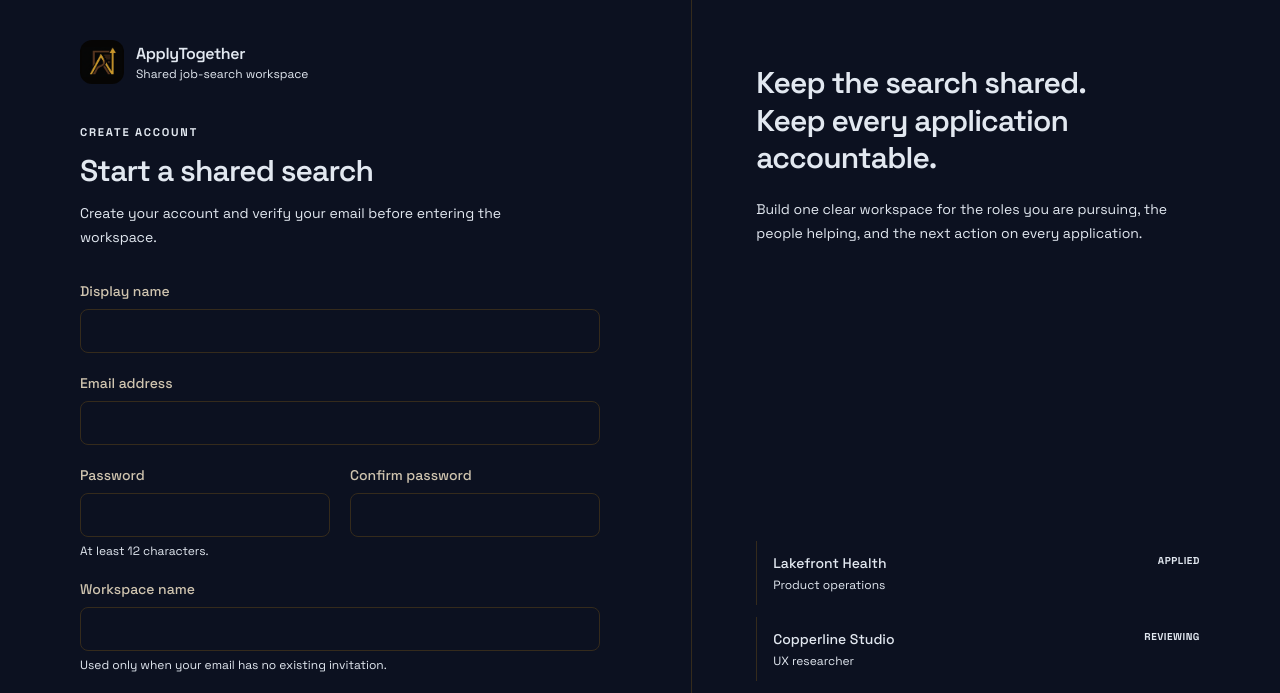
Test case: SignupPage › validates the form before signup
This screenshot has width=1280, height=693.
Type "Amara Ellis" into the field labelled "Display name" at (340, 331), box [80,309,600,353]
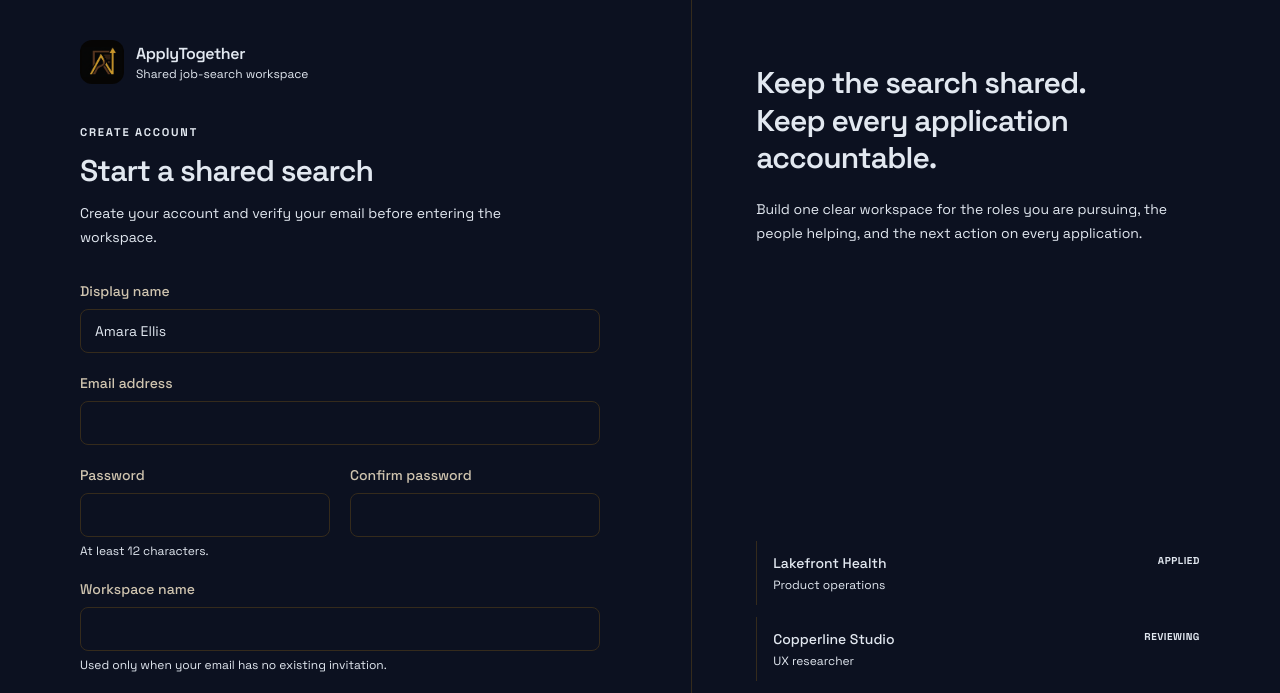
Type "amara@example.com" into the field labelled "Email address" at (340, 423), box [80,401,600,445]
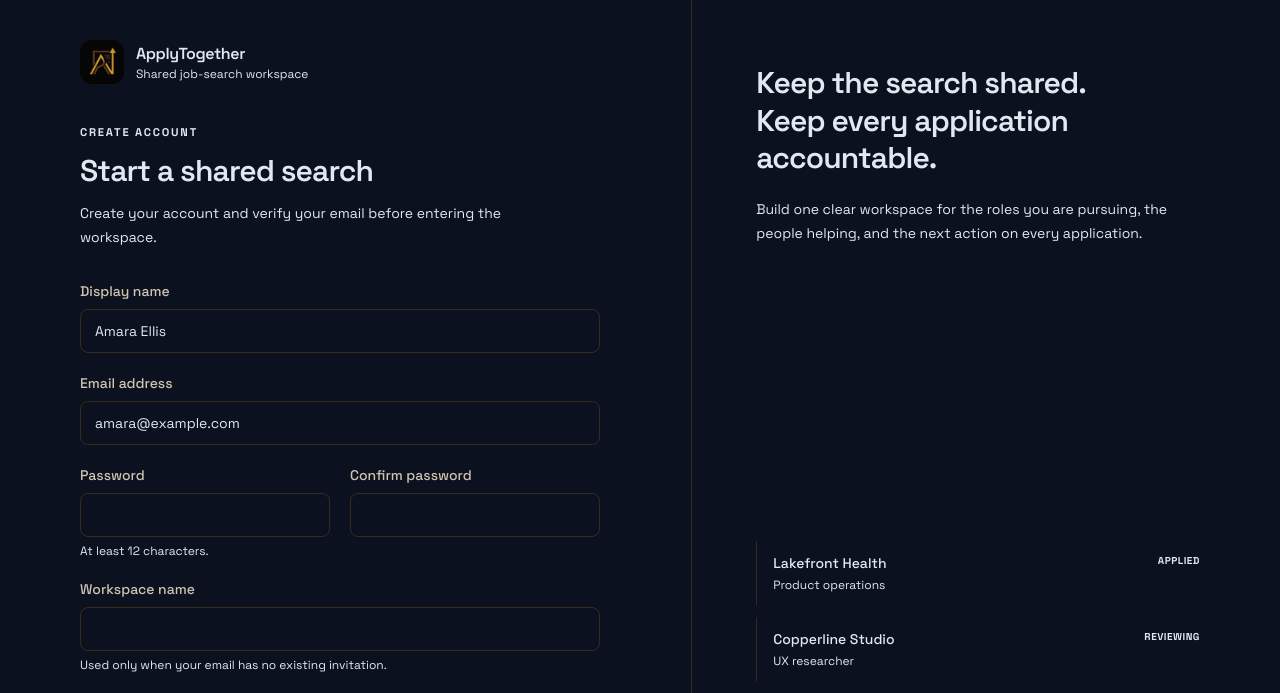
Type "short" into the password field labelled "Password" at (205, 515), box [80,493,330,537]
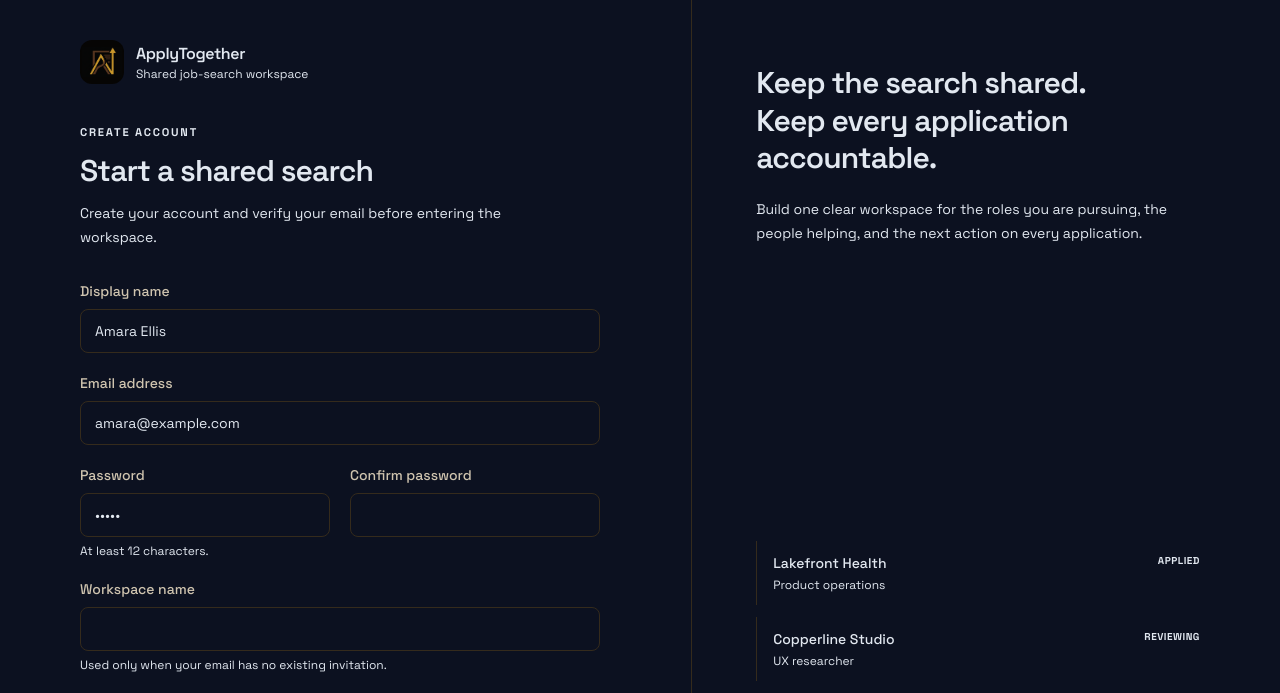
Type "different" into the password field labelled "Confirm password" at (475, 515), box [350,493,600,537]
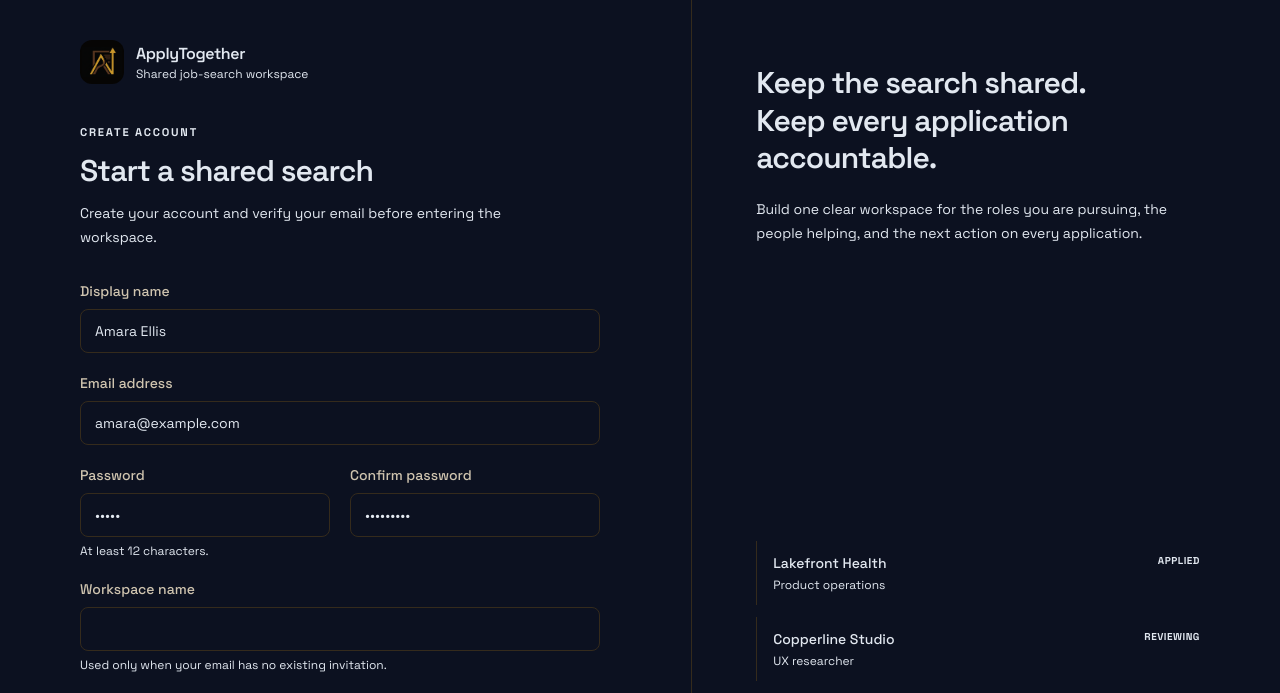
Type "Amara's search" into the field labelled "Workspace name" at (340, 629), box [80,607,600,651]
(page scrolled)
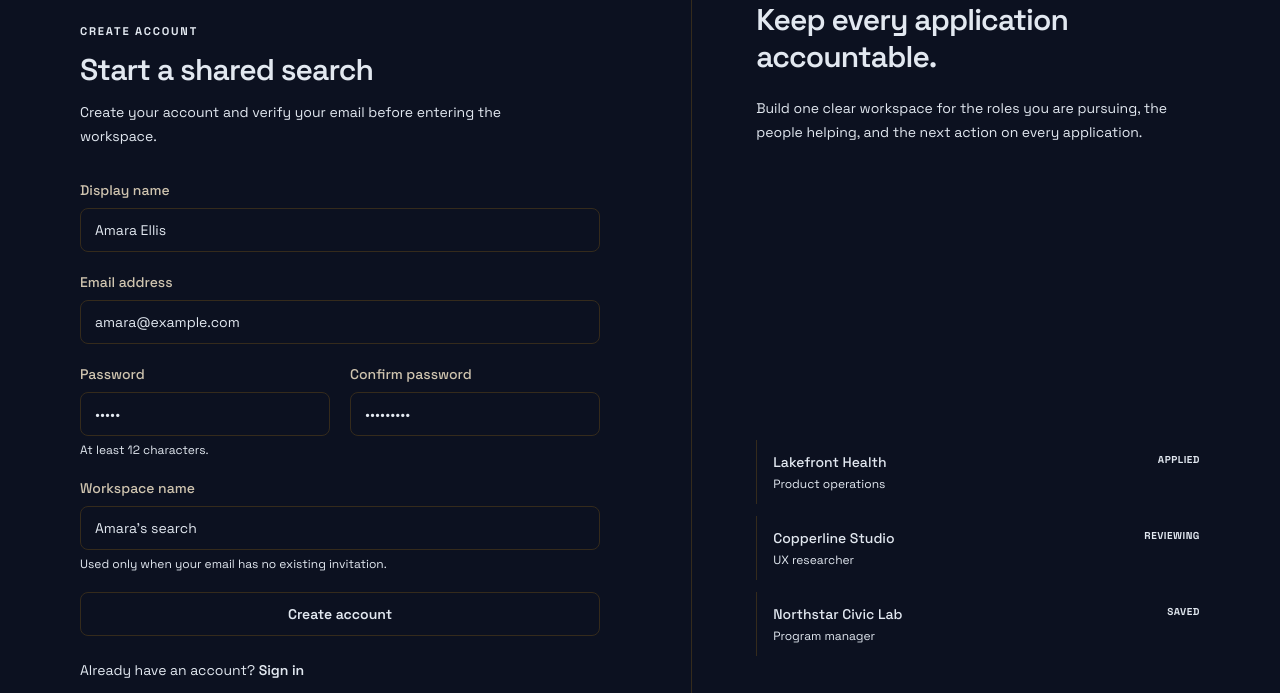
Click the button "Create account" at (340, 614), box [80,592,600,636]
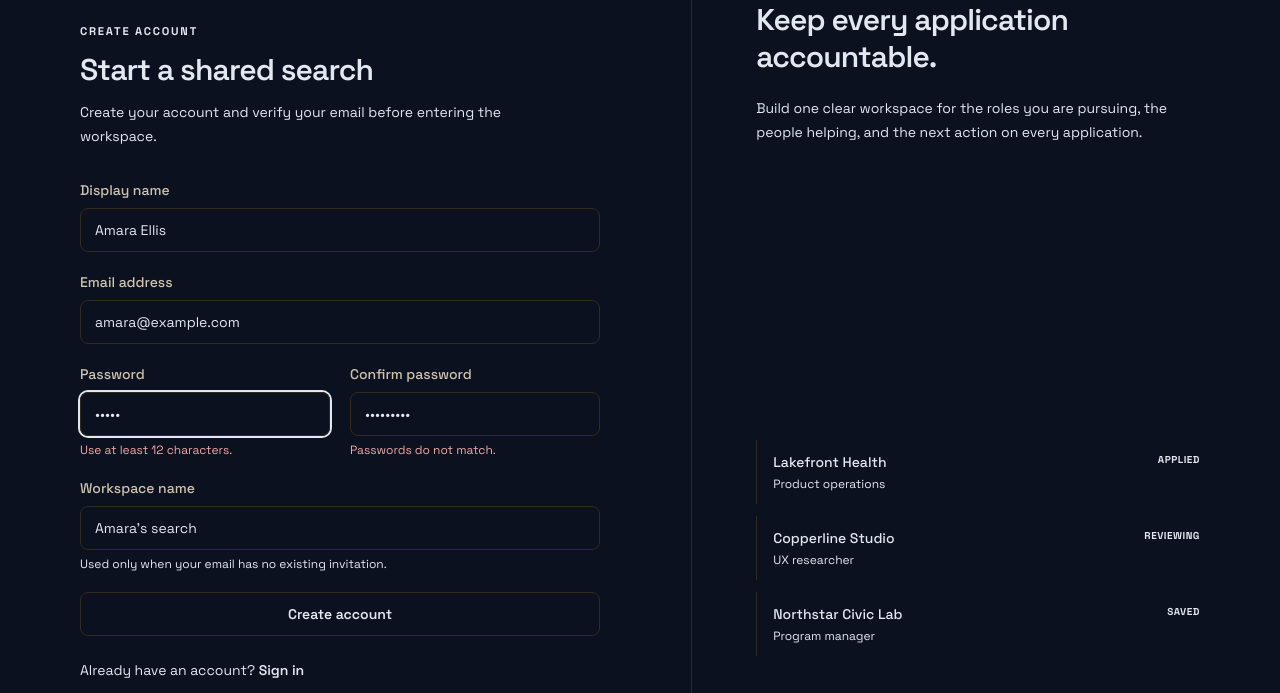
expect the text "Use at least 12 characters." is shown: met, box [80,442,232,458]
expect the text "Passwords do not match." is shown: met, box [350,442,496,458]
